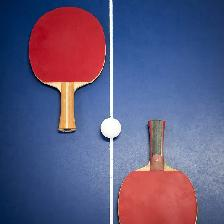WhiteBall: (100, 117, 121, 138)
